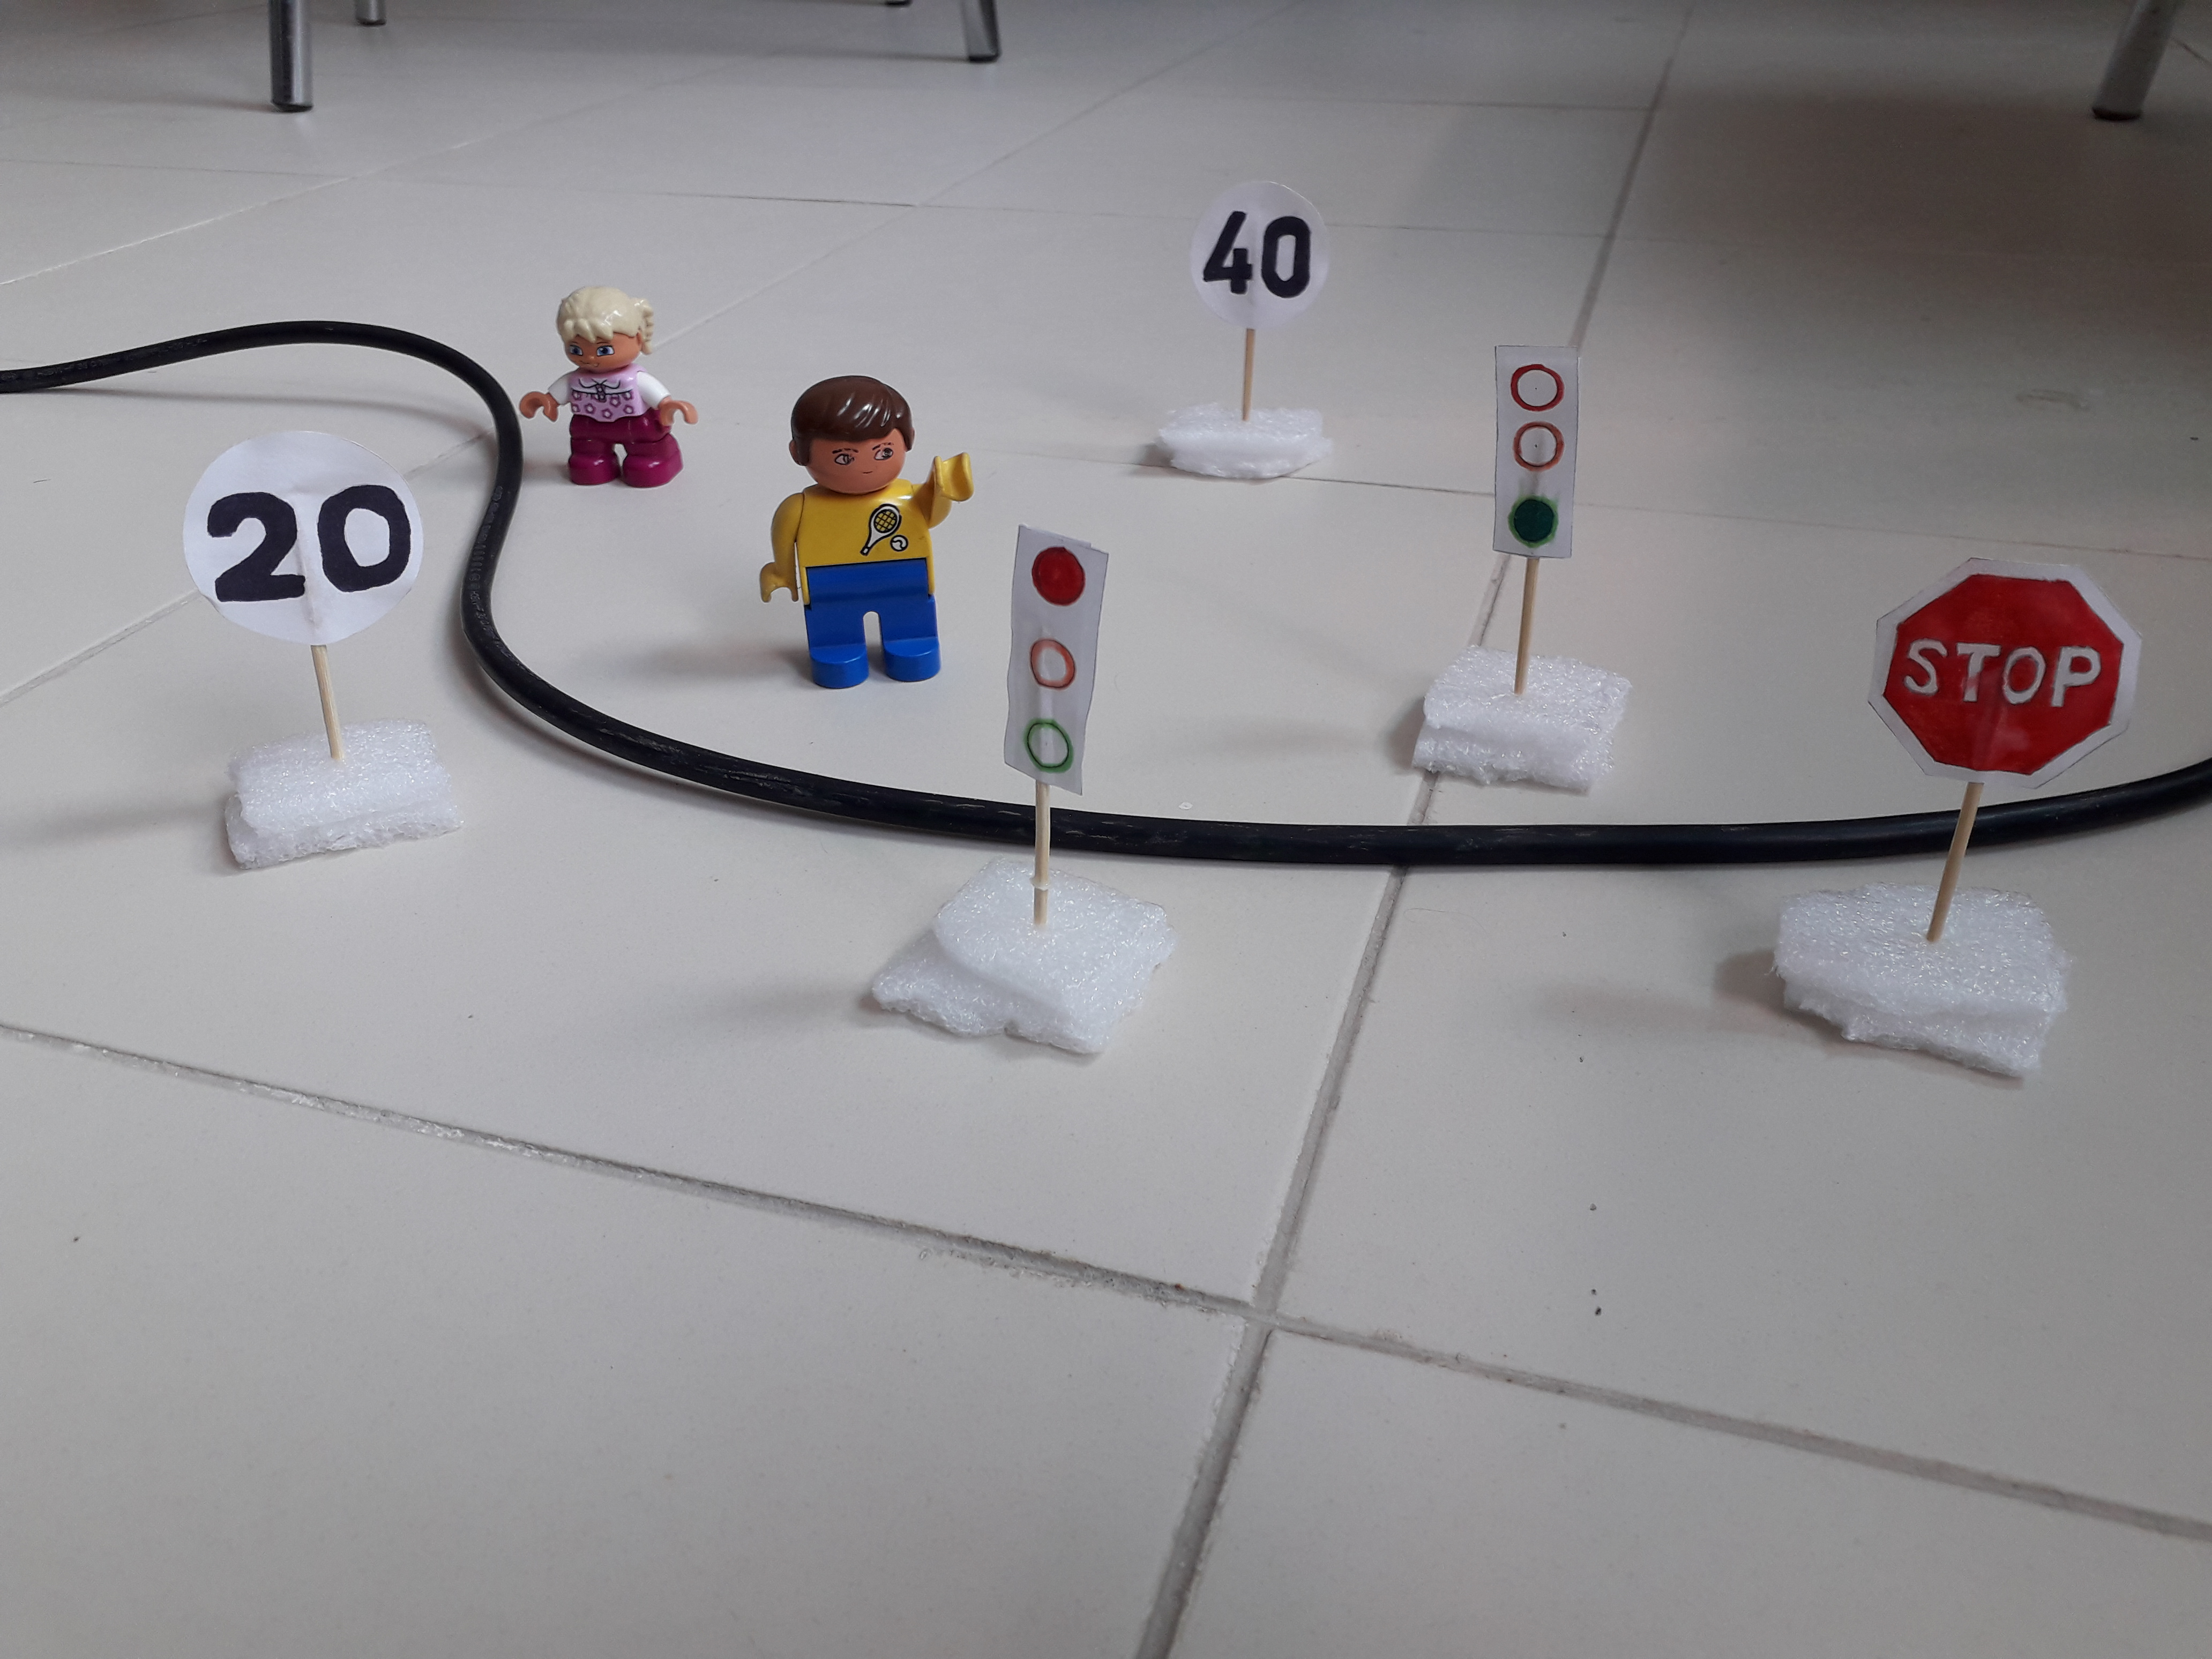20_sign: (186, 423, 418, 658)
40_sign: (1181, 178, 1342, 324)
green_light: (1492, 329, 1589, 569)
person: (742, 367, 990, 697), (518, 278, 694, 507)
red_light: (990, 523, 1115, 798)
stop_sign: (1875, 556, 2143, 796)
